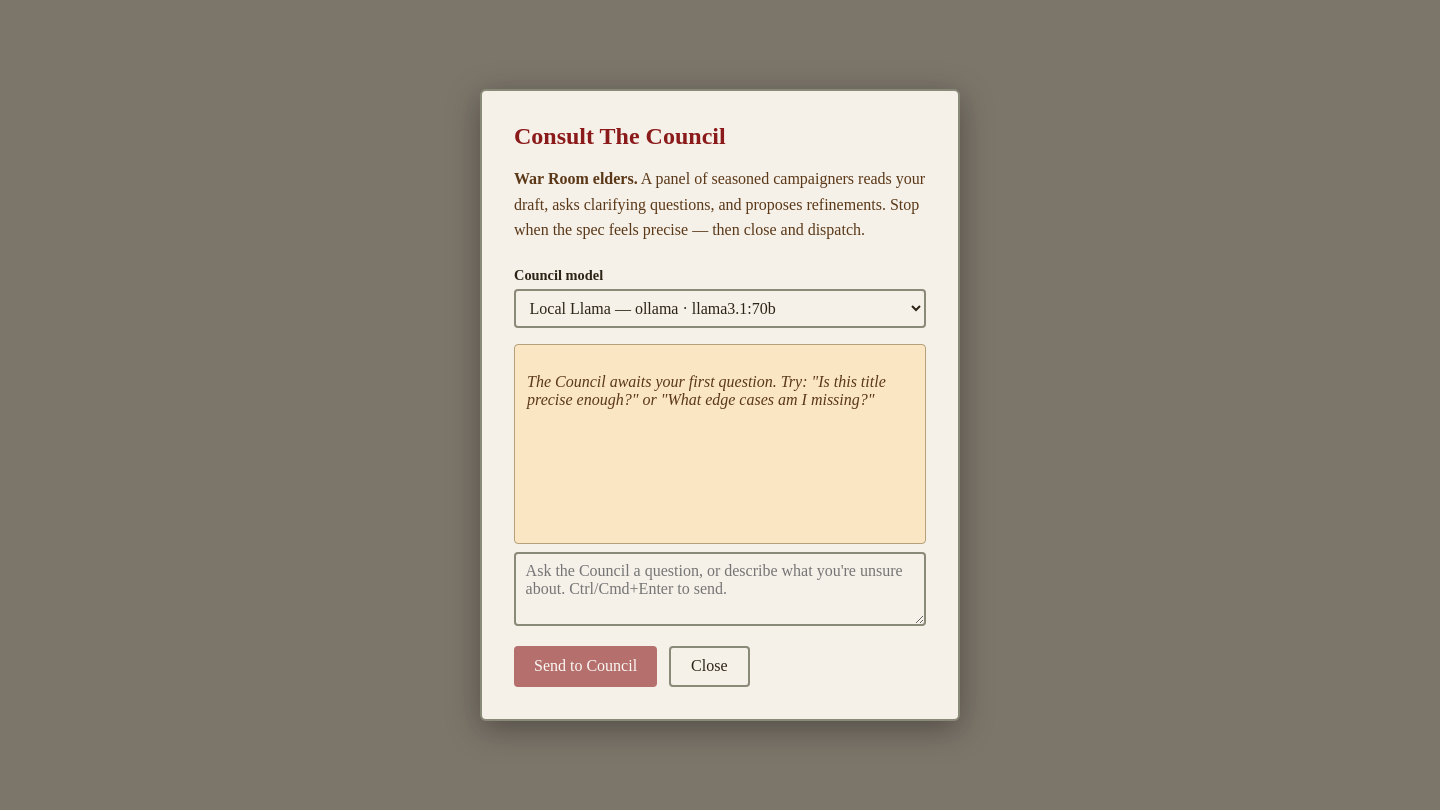
Test case: CouncilModal › renders an Apply button for assistant turns that include a proposal
The width and height of the screenshot is (1440, 810).
Expected: the dropdown with test id "advisor-model-select" shows "Local Llama — ollama · llama3.1:70b", [514,289,926,328]
Type "go" into the text box with test id "advisor-input".
click(720, 589); type("go")  # box [514,552,926,626]
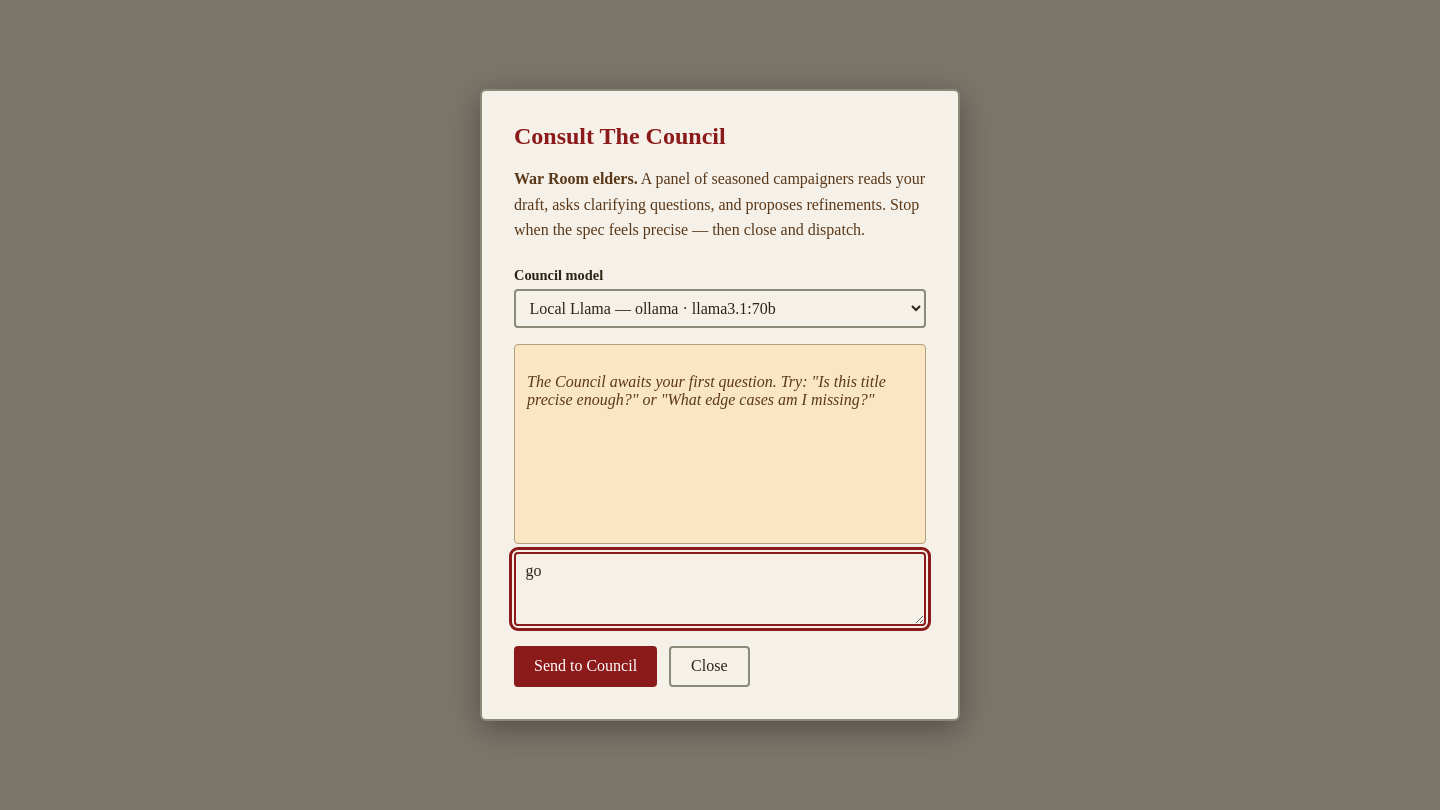
Click the button "Send to Council".
click(586, 666)  # box [514,646,657,687]
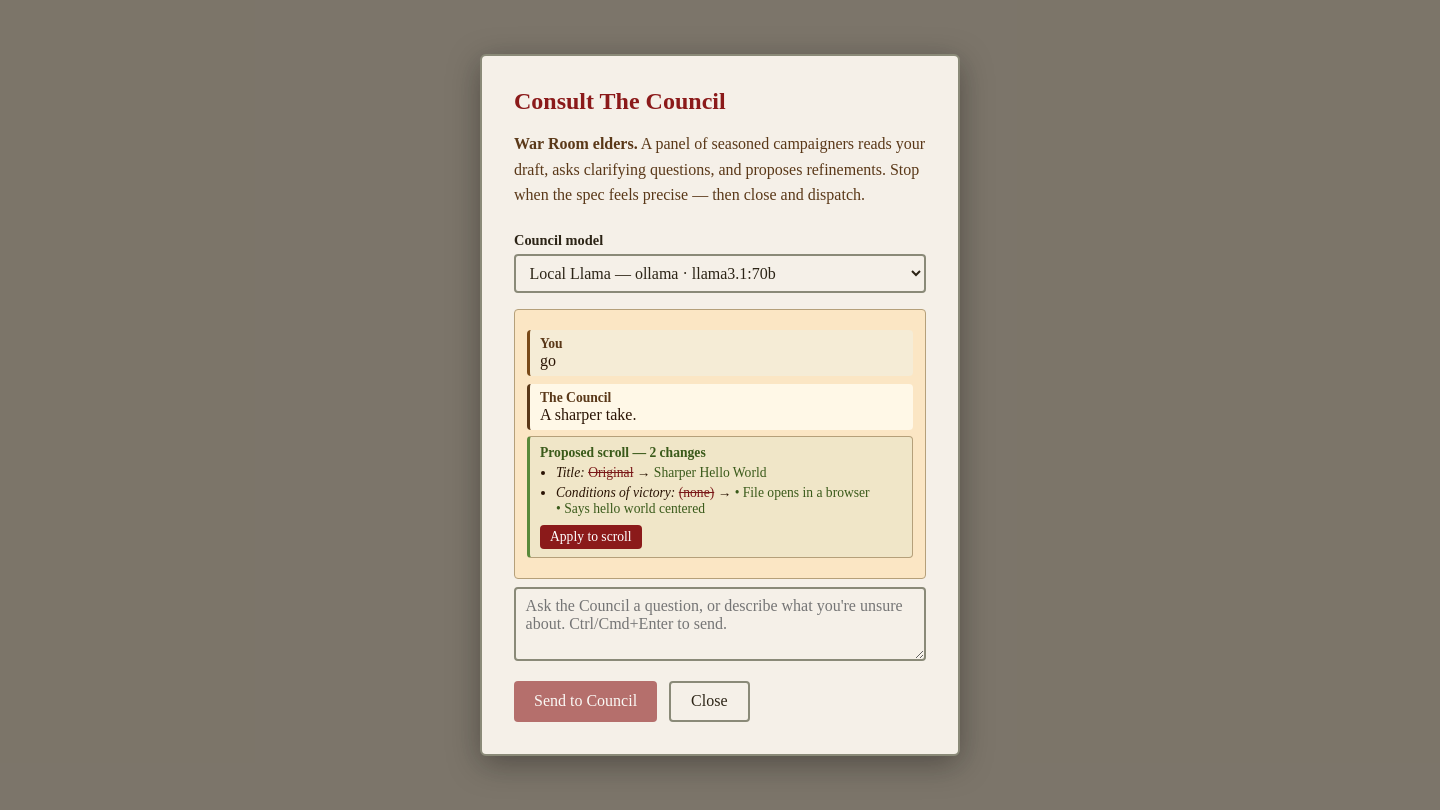
Expected: the element with test id "advisor-proposal" is shown, [527,436,913,558]
Expected: the button with test id "apply-proposal-btn" is shown
Expected: the text "Original" is shown, [588,465,633,480]
Click the button with test id "apply-proposal-btn".
click(591, 537)  # box [540,525,642,549]
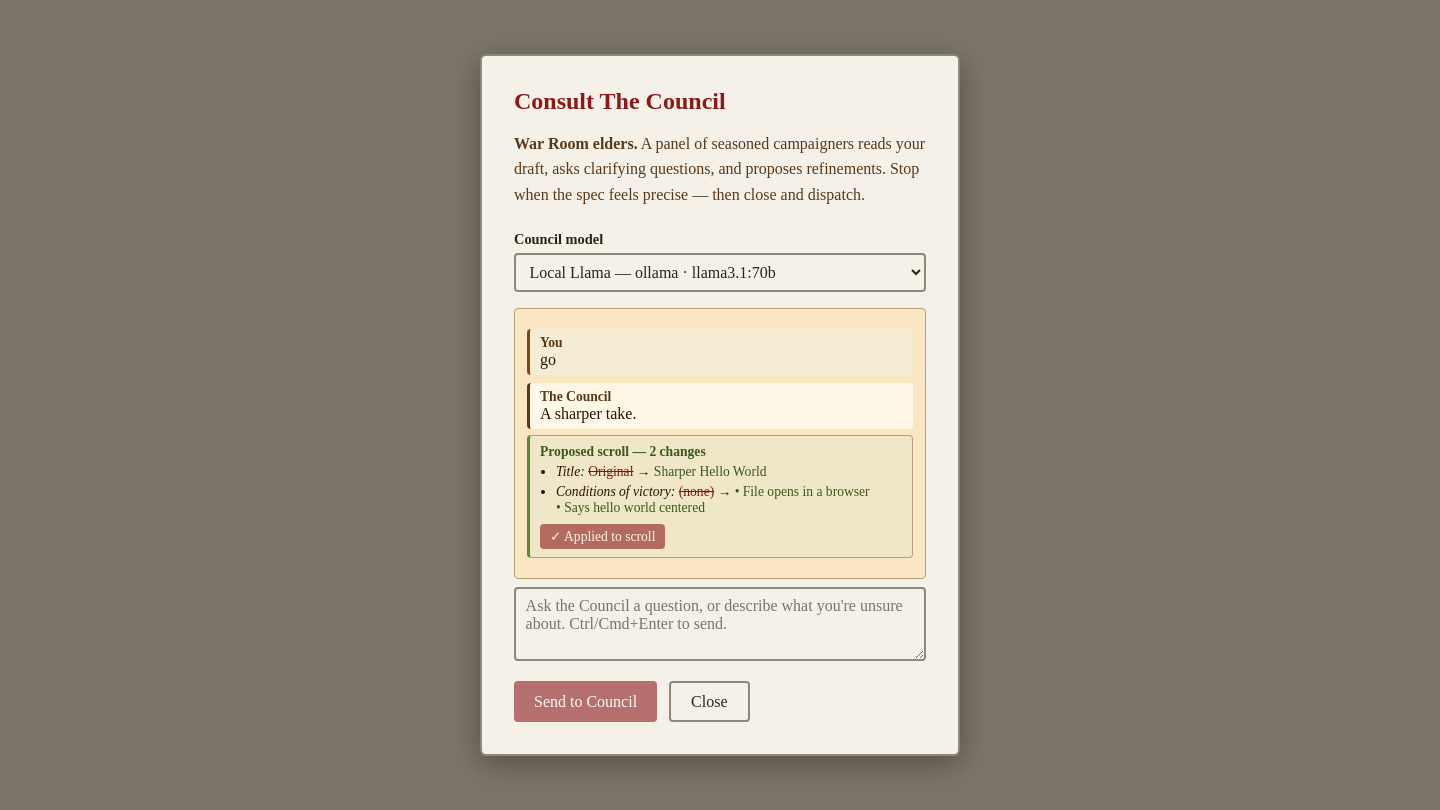
Expected: the button with test id "apply-proposal-btn" is disabled, [540,524,665,549]
